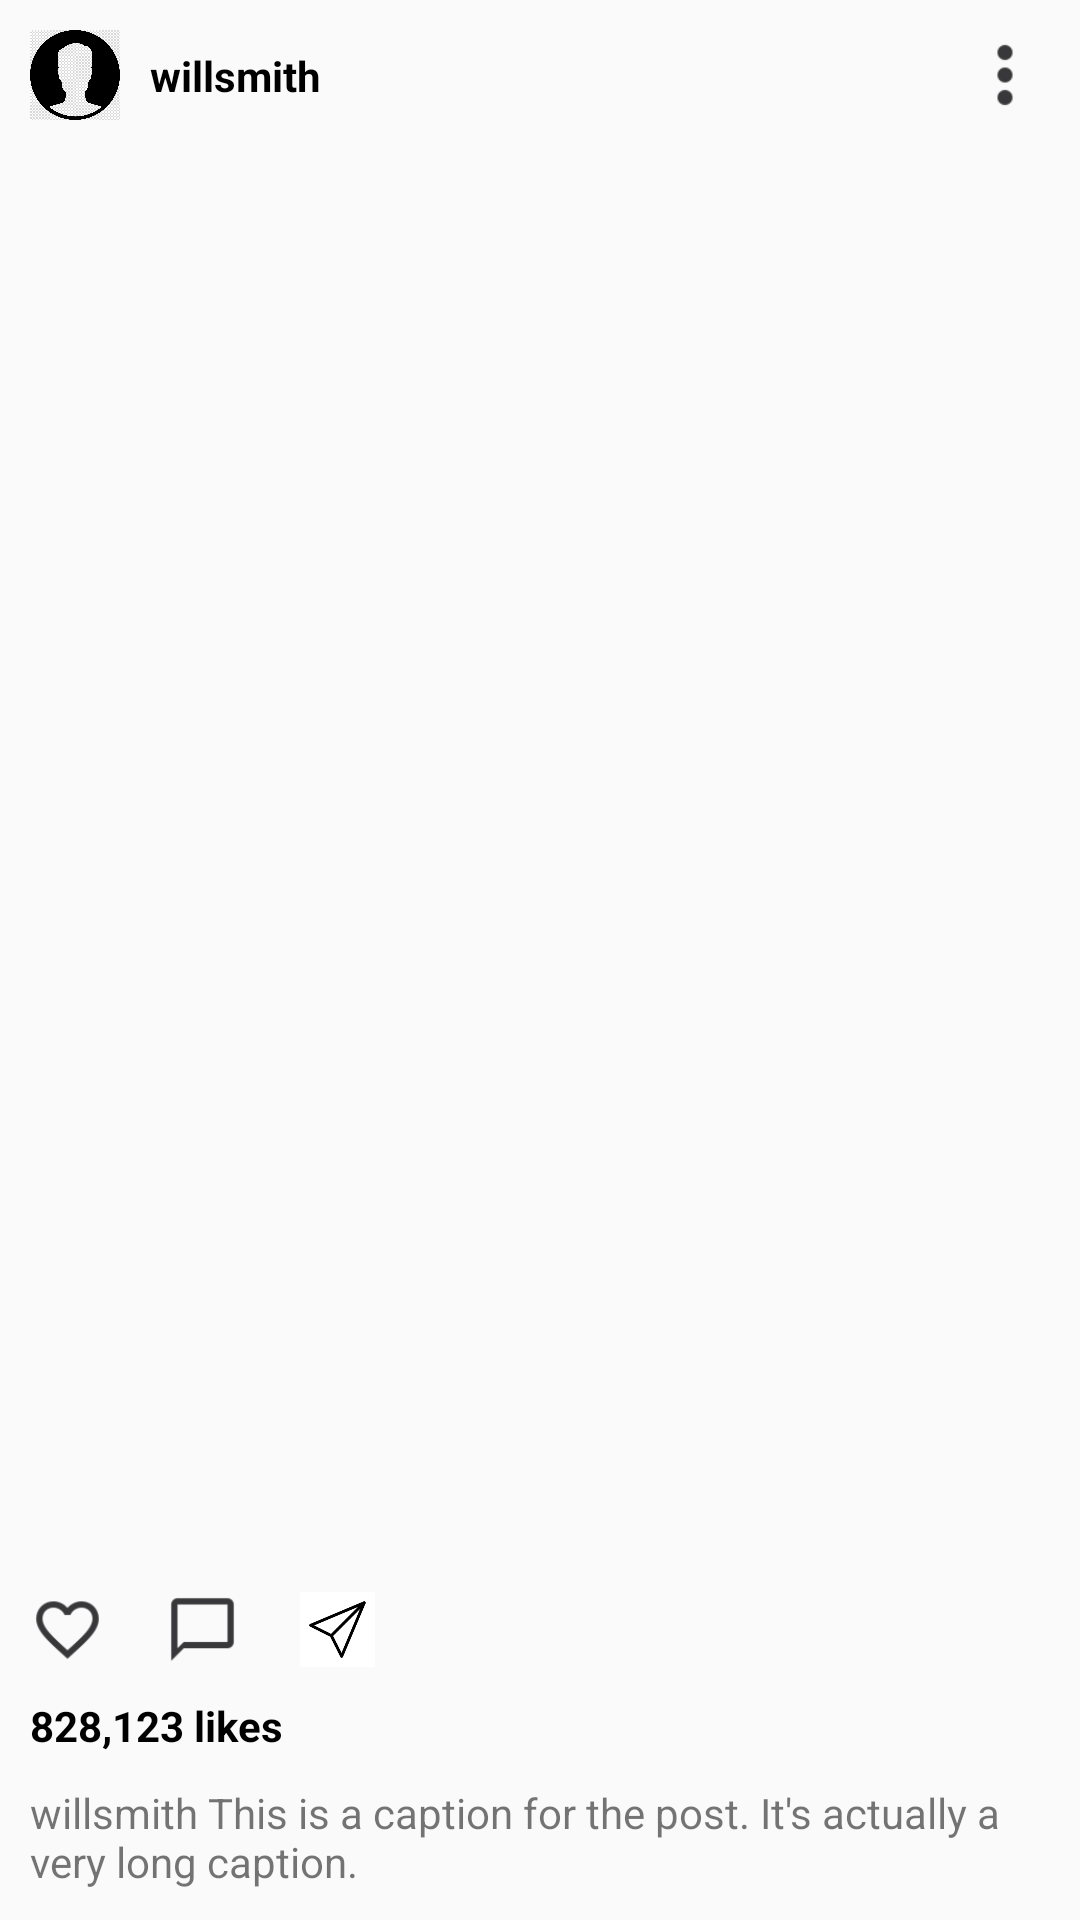

Locate icon controls on the screen. Image size 1080px×1920px, boxes as [x1=x1, y1=y1, x2=x2, y2=y2].
comments border: [x1=171, y1=1598, x2=234, y2=1661]
likes border: [x1=36, y1=1601, x2=99, y2=1659]
more: [x1=997, y1=45, x2=1013, y2=105]
person: [x1=30, y1=30, x2=120, y2=120]
share border: [x1=309, y1=1601, x2=366, y2=1658]
